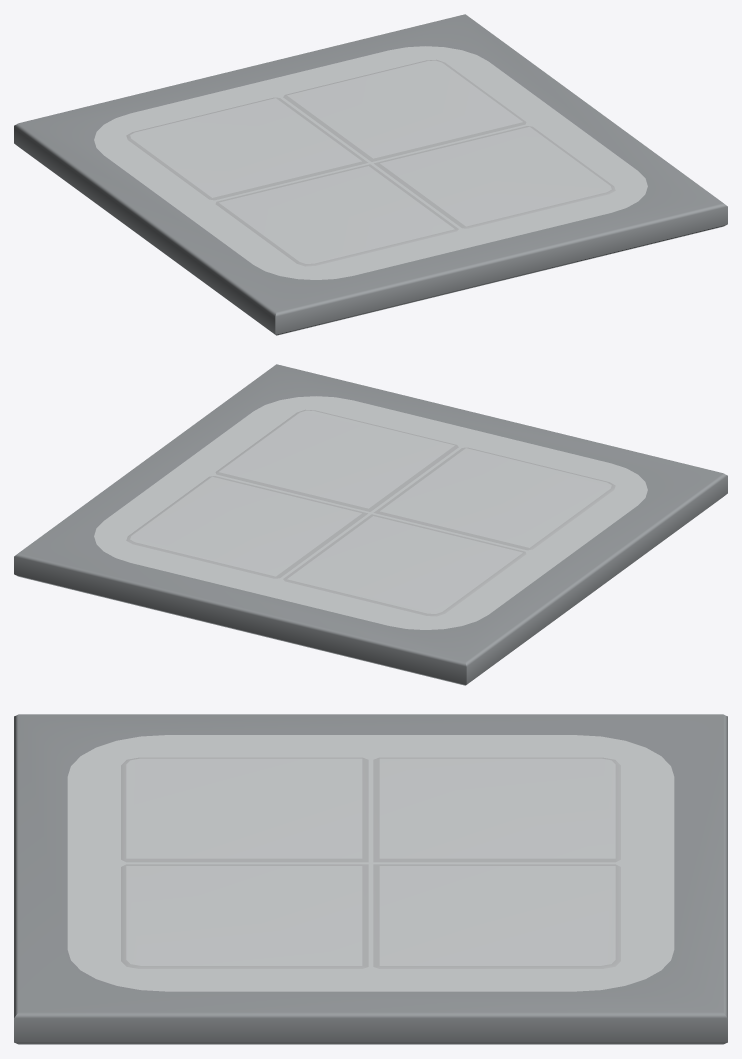
File: Platform_003.fbx
3 views of the same model, one above another, from view 1: azimuth 30°, elevation 25°; view 2: azimuth 150°, elevation 25°; view 3: azimuth 270°, elevation 25° (orthographic). The views are drawn at different scales.
Parts seen in each view (by area): view 1: Platform_003; view 2: Platform_003; view 3: Platform_003.
Part boxes in pixels (x1,y1,x2,y2): Platform_003: (14, 14, 727, 335); Platform_003: (14, 364, 727, 685); Platform_003: (14, 714, 727, 1044).
Bounding box in the file's own units: 400 × 400 × 21.34.
